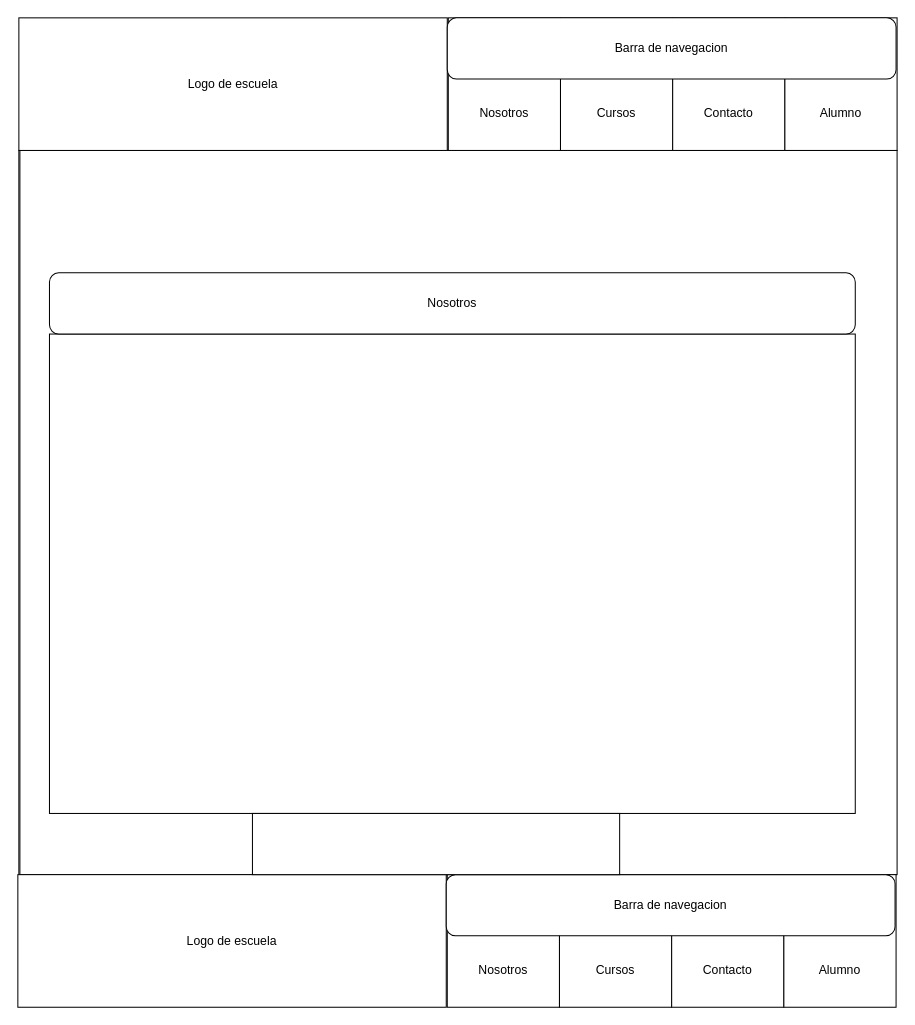
Image size: 915x1025. Some labels were removed from this diagram. The shapes that lost their labels are listed below. From the top down, each one's box as (x1, y1, x2, y2) in pixels, then its label:
(48, 333, 855, 813): texto
(251, 812, 620, 875): Boton de inscribete
